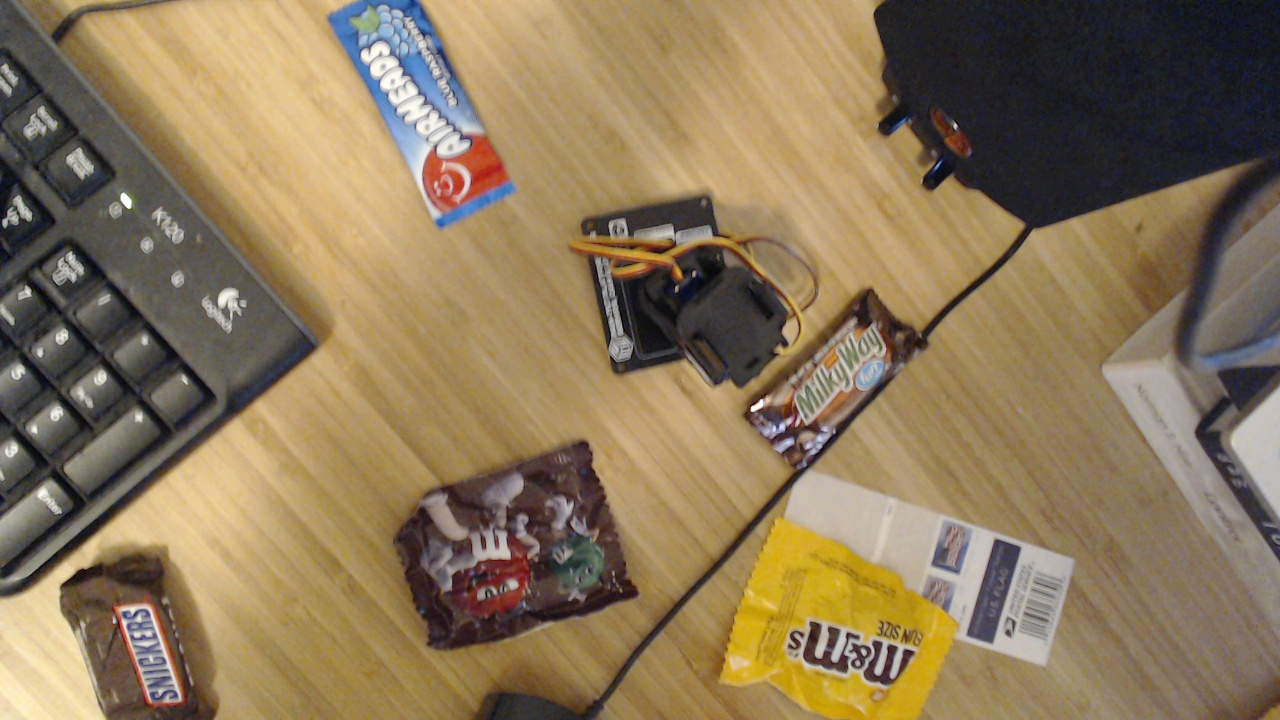MMs_peanut: (356, 450, 672, 663)
MMs_regular: (706, 499, 964, 720)
airheads: (318, 0, 541, 211)
milky_way: (742, 272, 944, 470)
snickers: (39, 559, 211, 720)
